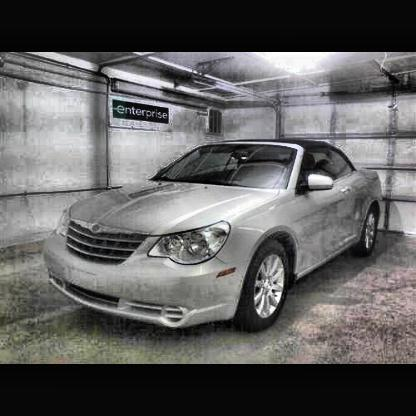Chrysler Sebring Convertible 2010: (45, 140, 384, 333)
